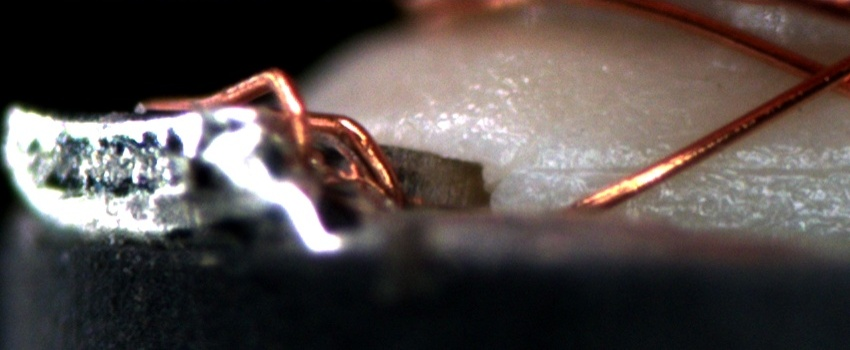CL: (168, 51, 322, 147)
DL: (524, 140, 850, 204)
TE: (133, 66, 415, 215)
